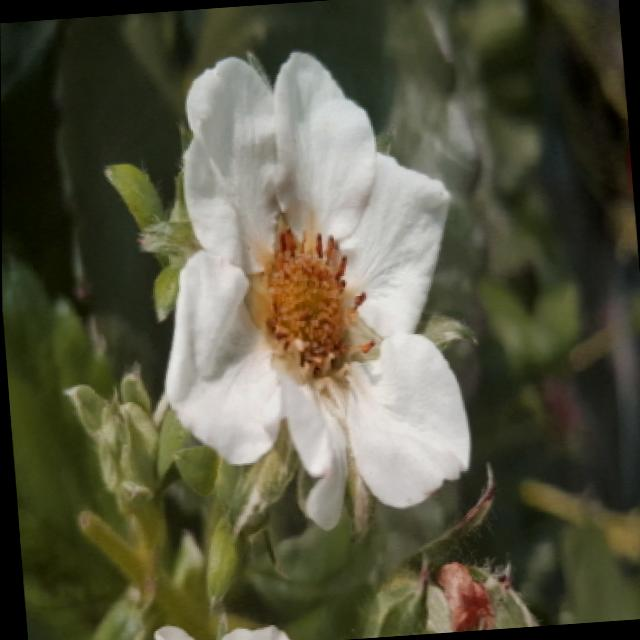Blossom Blight: (242, 201, 388, 404)
